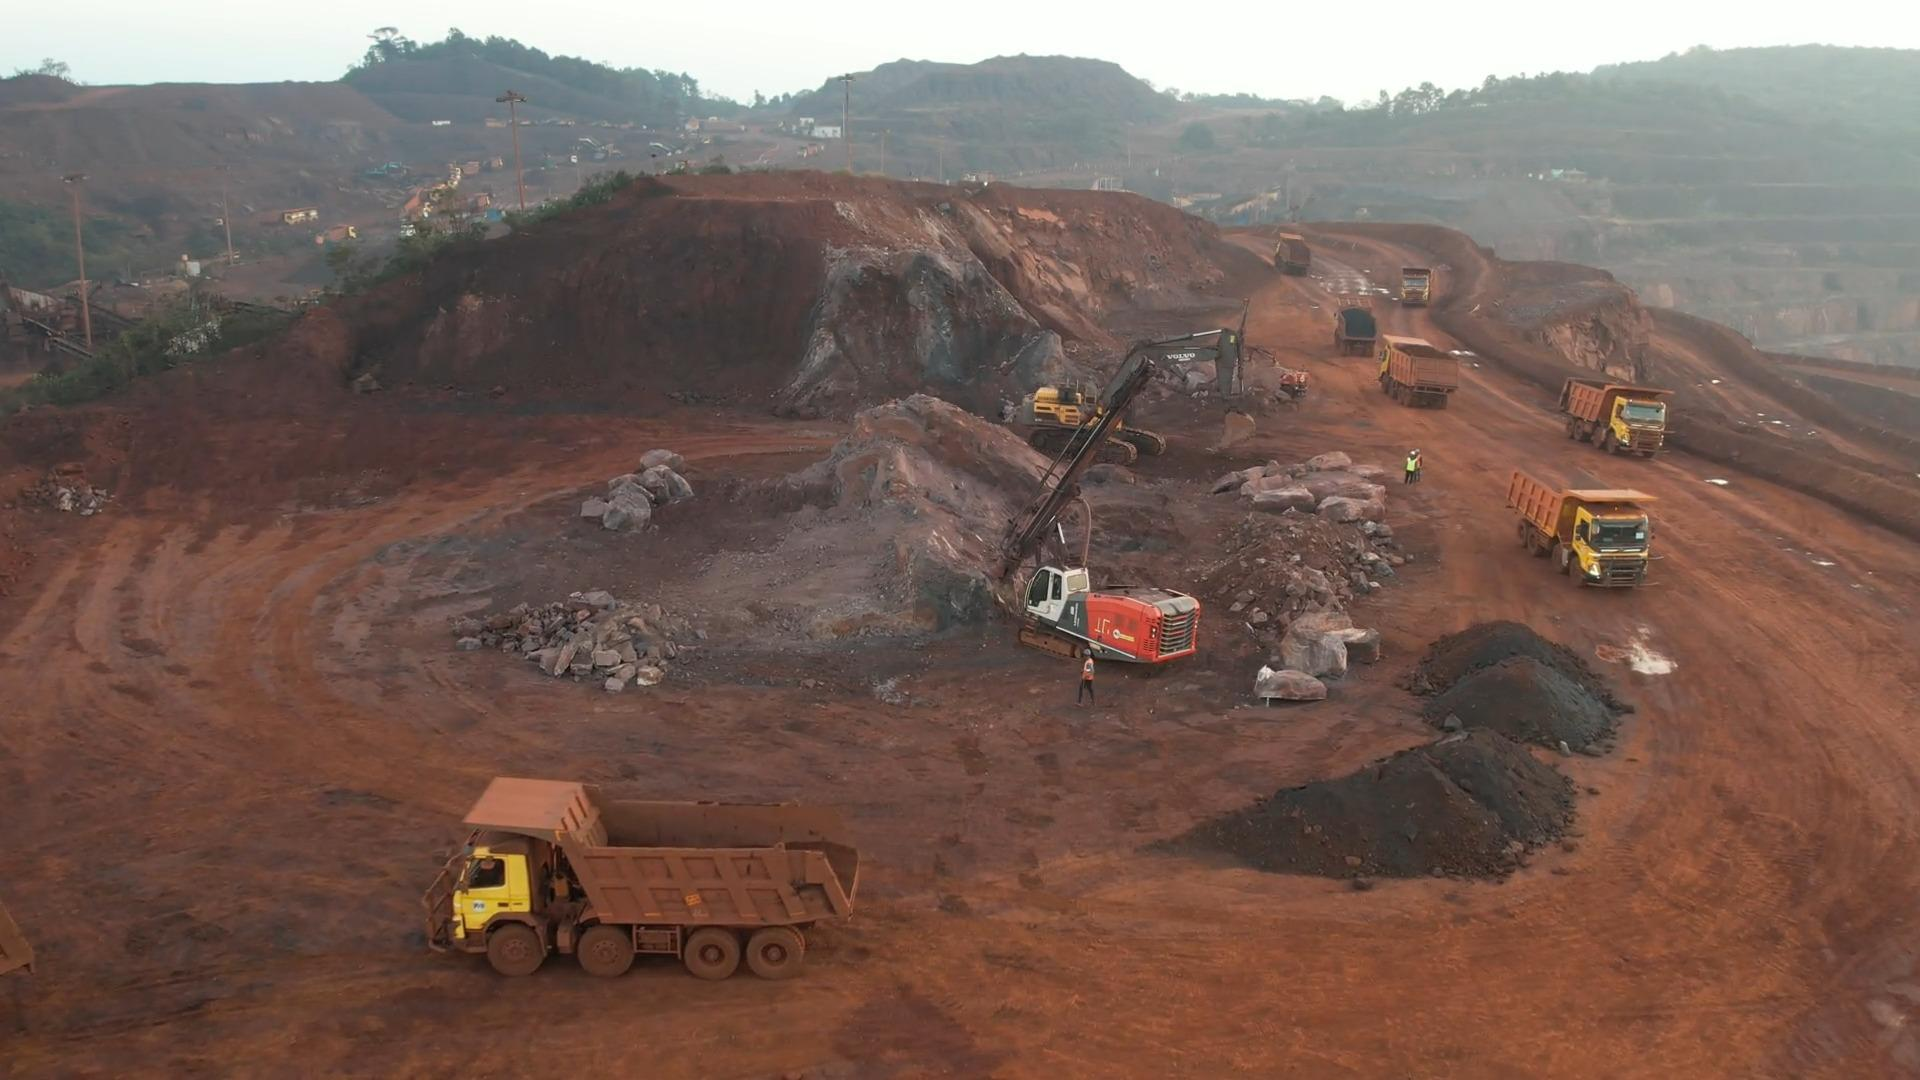excavator: (1030, 327, 1249, 447)
